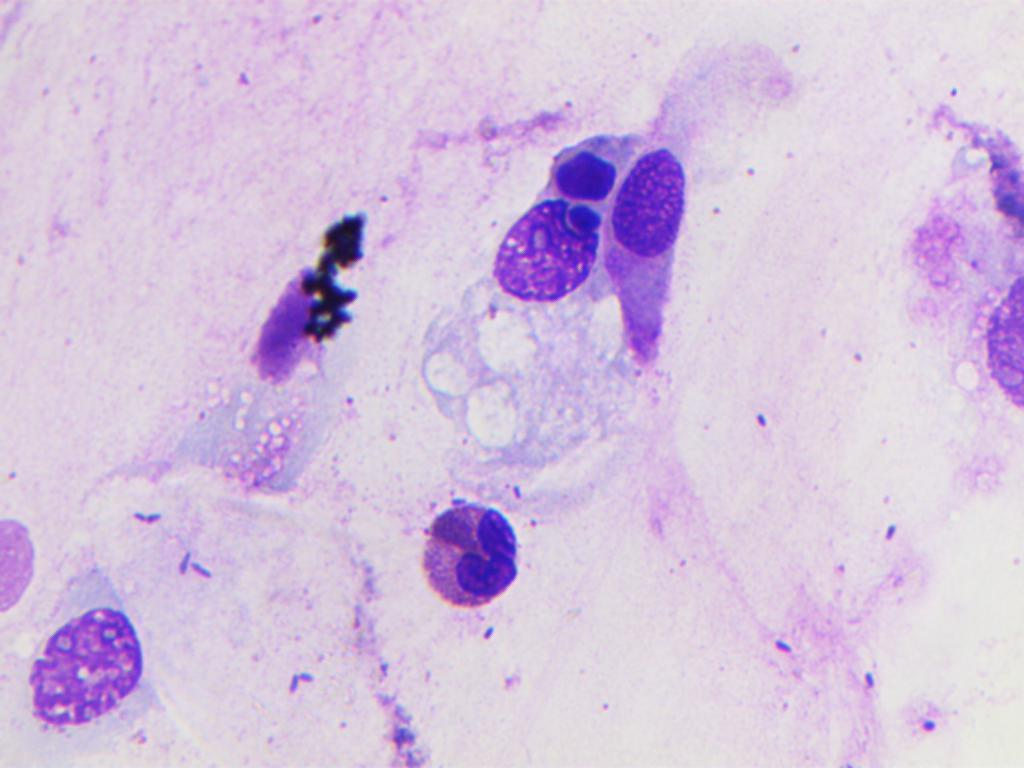artifact: (298, 204, 376, 352)
eosinophil: (409, 474, 552, 631)
epithelial: (610, 149, 698, 374), (31, 605, 161, 741), (481, 189, 603, 308), (543, 128, 614, 200)
